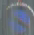No waiting: (2, 3, 33, 32)
